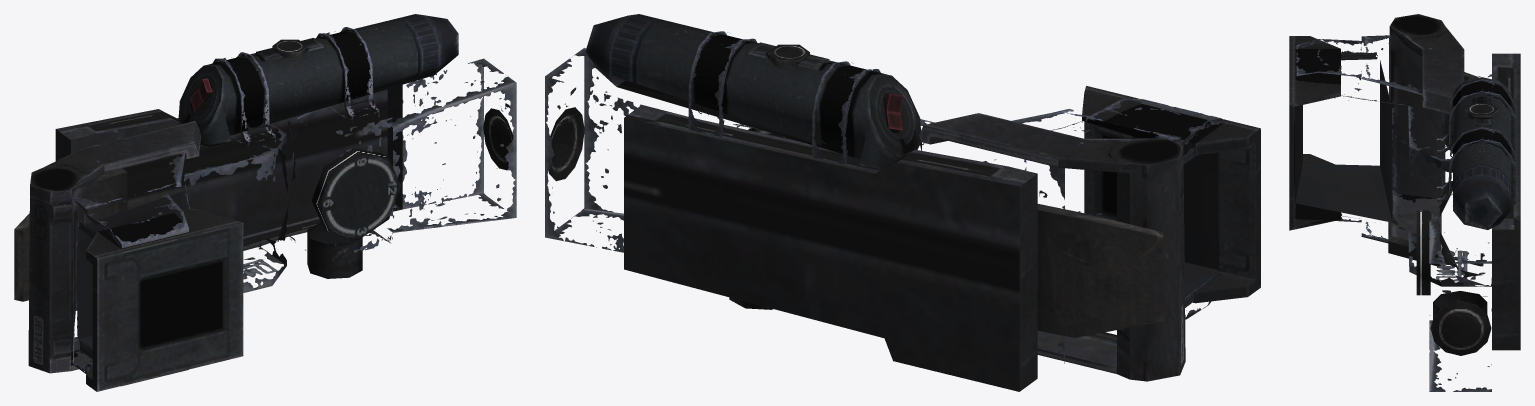
File: t6_attach_optic_rangefinder_world_LOD0.obj
The picture shows the model from 3 angles, left to right: view 1: azimuth 30°, elevation 25°; view 2: azimuth 150°, elevation 25°; view 3: azimuth 270°, elevation 25°; orthographic projection. The views are drawn at different scales.
Parts seen in each view (by area): view 1: mtl_t6_attach_optic_rangefinder_camo1, mtl_t6_attach_optic_rangefinder_camo2, mtl_t6_attach_optic_rangefinder; view 2: mtl_t6_attach_optic_rangefinder_camo1, mtl_t6_attach_optic_rangefinder_camo2, mtl_t6_attach_optic_rangefinder; view 3: mtl_t6_attach_optic_rangefinder_camo1, mtl_t6_attach_optic_rangefinder_camo2, mtl_t6_attach_optic_rangefinder.
Boxes of the visible parts, x1,y1,x2,y2 form: mtl_t6_attach_optic_rangefinder_camo1: (55, 14, 516, 391); mtl_t6_attach_optic_rangefinder_camo2: (14, 15, 458, 391); mtl_t6_attach_optic_rangefinder: (77, 190, 185, 348); mtl_t6_attach_optic_rangefinder_camo1: (545, 14, 1260, 391); mtl_t6_attach_optic_rangefinder_camo2: (585, 15, 1185, 381); mtl_t6_attach_optic_rangefinder: (1132, 136, 1218, 295); mtl_t6_attach_optic_rangefinder_camo1: (1289, 35, 1520, 391); mtl_t6_attach_optic_rangefinder_camo2: (1388, 14, 1516, 318); mtl_t6_attach_optic_rangefinder: (1295, 60, 1392, 222).
Size of the model in its own units: 15.24 by 6.51 by 6.42.
